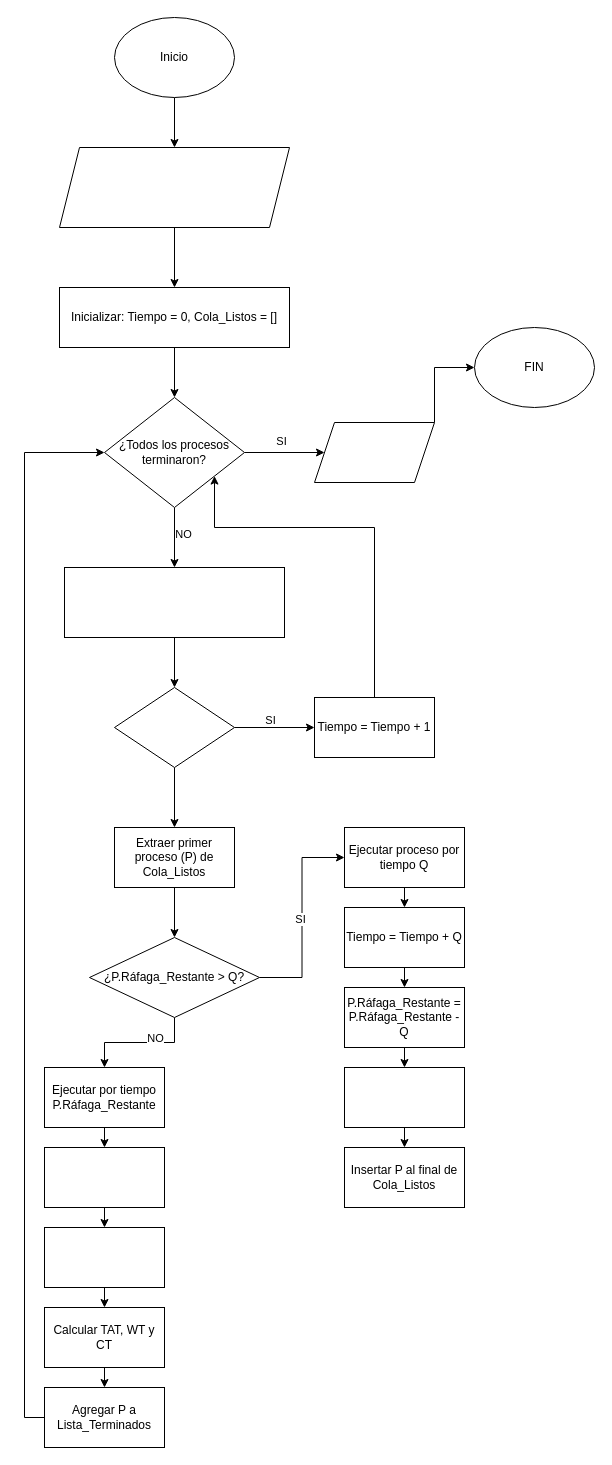
The diagram is 612 pixels wide and 1465 high, and some of its shapes have lost their labels. Each missing label, with the box of its shape:
Leer Quantum (Q) y Lista de Procesos: (58, 146, 290, 228)
Mostrar Tabla de Resultados: (314, 422, 434, 482)
P.Ráfaga_Restante = 0: (44, 1226, 164, 1288)
Tiempo = Tiempo + P.Ráfaga_Restante: (44, 1146, 164, 1208)
Verificar llegadas: Agregar procesos con (AT <= Tiempo) a Cola_Listos: (64, 566, 284, 638)
Verificar nuevas llegadas y agregarlas a Cola: (344, 1066, 464, 1128)
¿Cola_Listos vacía?: (114, 686, 234, 768)
